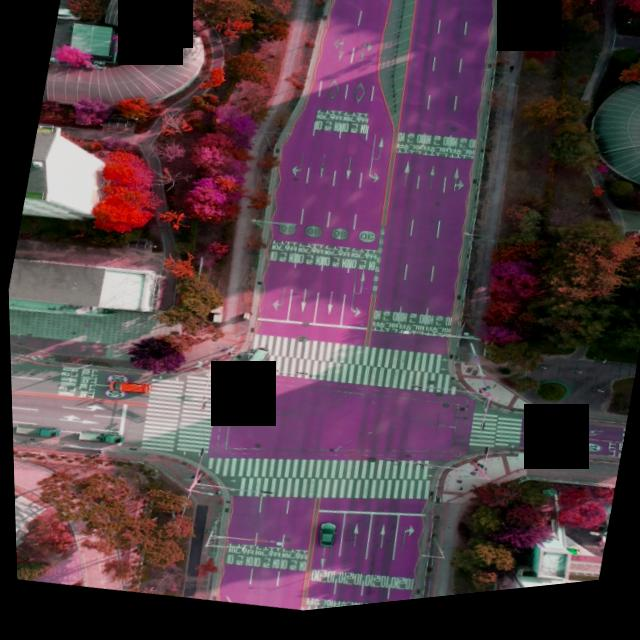car: (103, 376, 150, 400), (237, 348, 269, 379), (311, 528, 333, 555)
small_truck: (10, 415, 57, 442), (72, 429, 119, 449)
